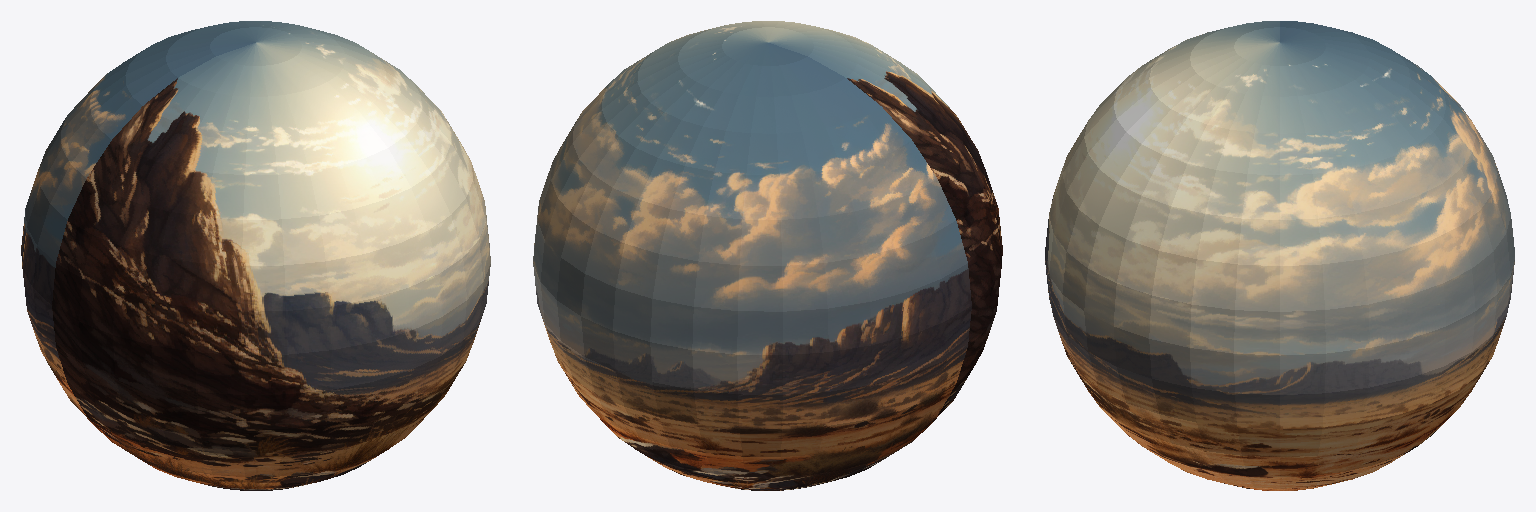
The picture shows the model from 3 angles: view 1: azimuth 30°, elevation 25°; view 2: azimuth 150°, elevation 25°; view 3: azimuth 270°, elevation 25°; orthographic projection.
Parts seen in each view (by area): view 1: 球_球.004; view 2: 球_球.004; view 3: 球_球.004.
Boxes of the visible parts, x1=… form: 球_球.004: x1=21, y1=21, x2=490, y2=490; 球_球.004: x1=533, y1=21, x2=1002, y2=490; 球_球.004: x1=1045, y1=21, x2=1514, y2=490.
Bounding box in the file's own units: 200 × 200 × 200.
Materials: 1 (1 with a texture image).